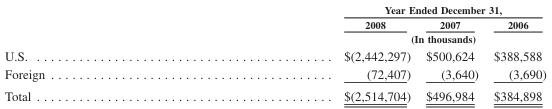table: (3, 3, 545, 102)
table column: (193, 3, 417, 102), (3, 3, 193, 102), (417, 3, 485, 102), (485, 3, 545, 102)
table column header: (3, 3, 545, 46)
table row: (3, 64, 545, 84), (3, 46, 545, 64), (3, 84, 545, 102), (3, 30, 545, 46), (3, 16, 545, 30), (3, 3, 545, 16)
table spanning cell: (193, 30, 545, 46), (193, 3, 545, 16)
